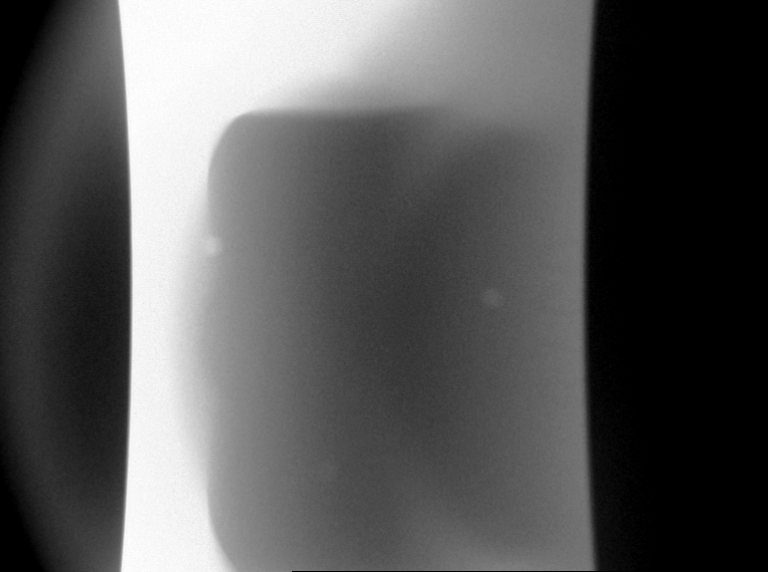defect: (203, 234, 226, 259)
